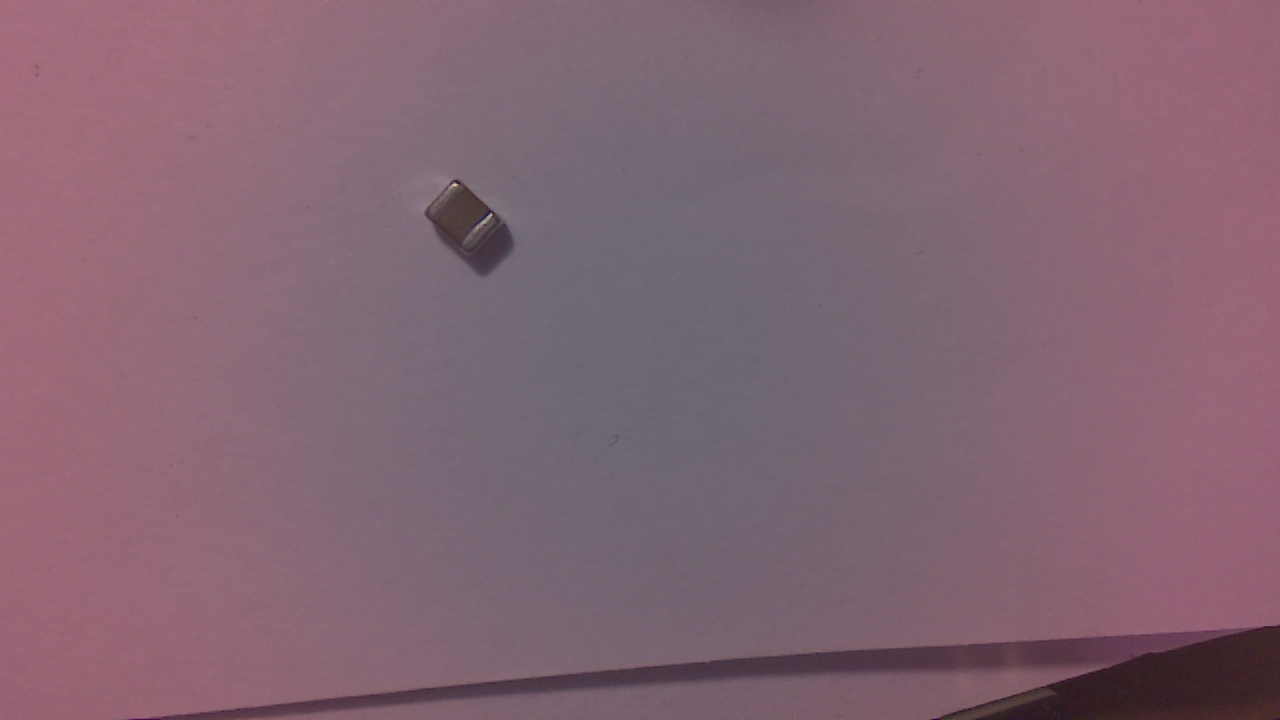Condensator: (429, 183, 511, 263)
